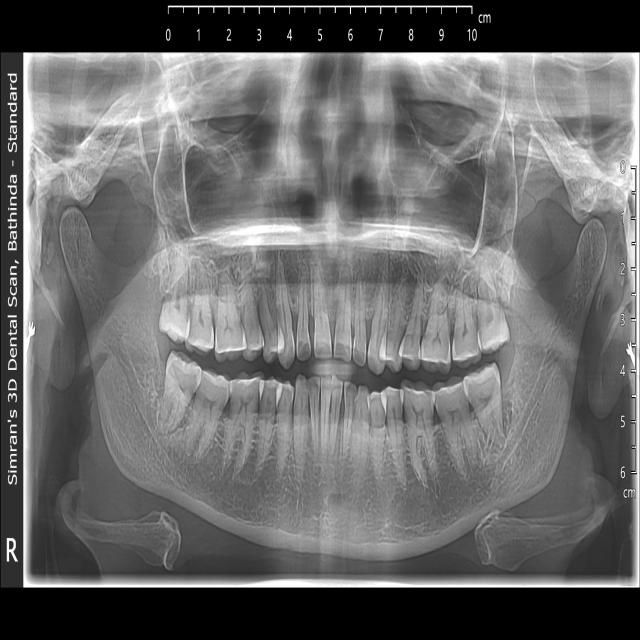Caries: (160, 288, 190, 344)
